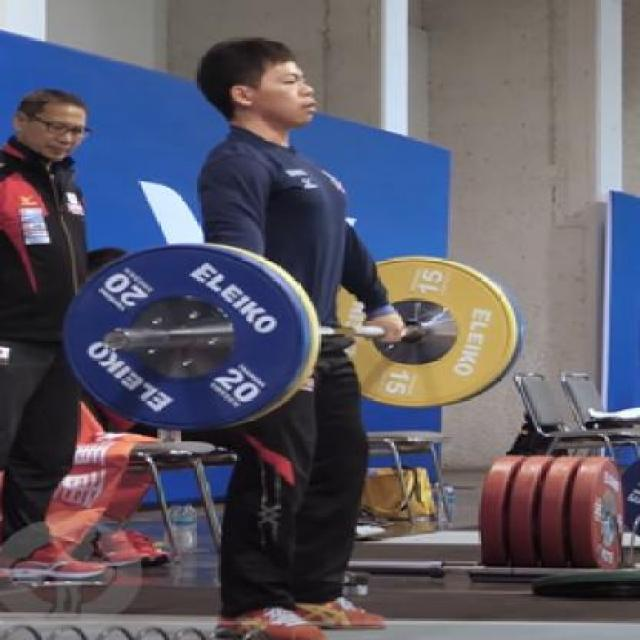Barbell: (99, 326, 132, 354)
